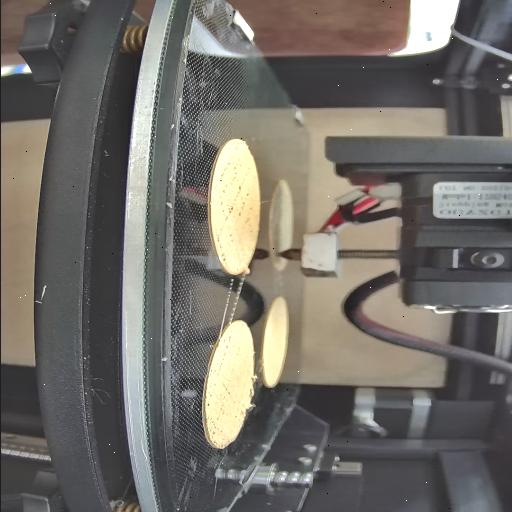under_extrusion: (216, 162, 246, 220), (208, 384, 238, 434), (206, 232, 234, 260), (212, 331, 230, 371)
